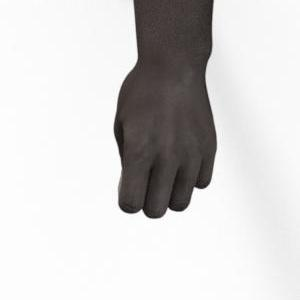rock: (114, 0, 216, 218)
